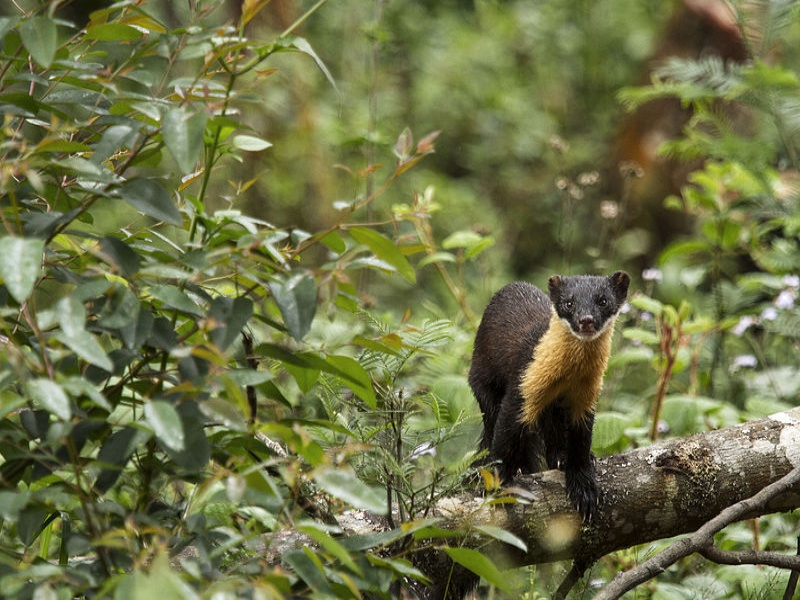minkish: (468, 269, 638, 513)
